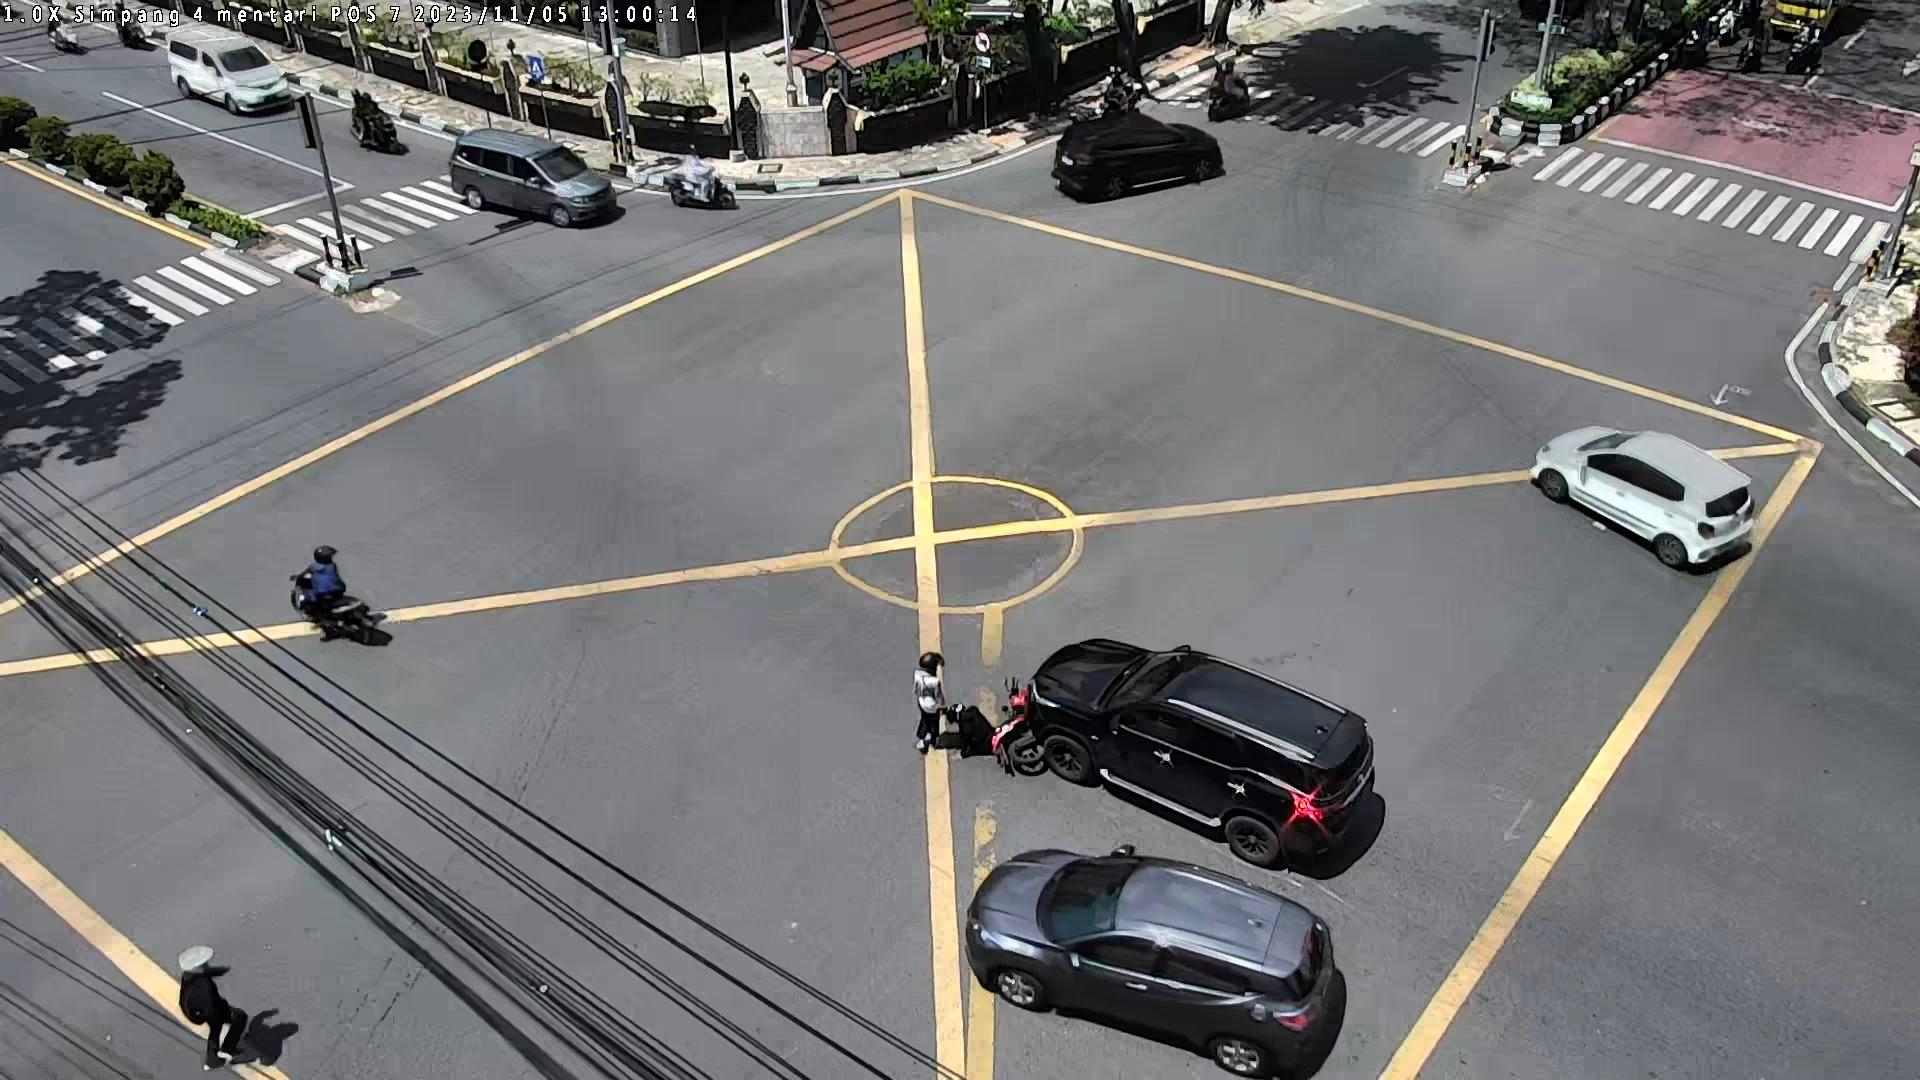accident: (935, 703, 996, 758)
